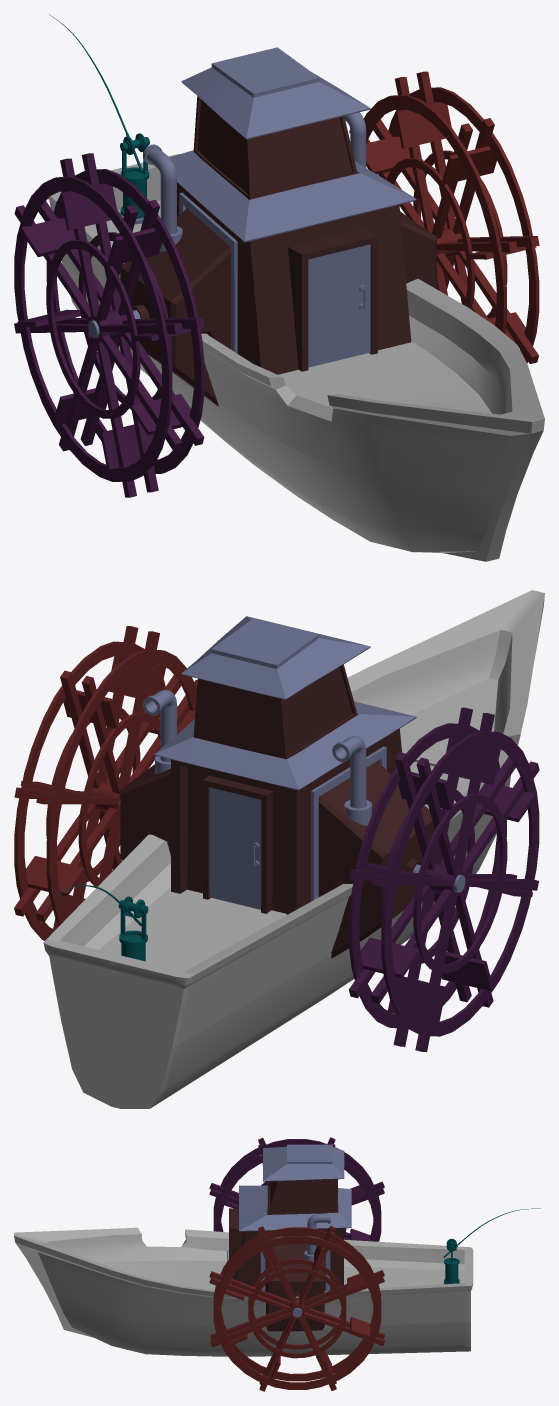
The model's file is emmaBoat.fbx.
3 views of the same model, one above another, from view 1: azimuth 30°, elevation 25°; view 2: azimuth 150°, elevation 25°; view 3: azimuth 270°, elevation 25° (orthographic). The views are drawn at different scales.
Parts seen in each view (by area): view 1: emmaBoat, rightWheel, leftWheel, rotateBottom, rotateTop; view 2: emmaBoat, rightWheel, leftWheel, rotateBottom; view 3: emmaBoat, leftWheel, rightWheel, rotateBottom.
Boxes of the visible parts, box(x1,y1,x2,y2) form: emmaBoat: box(48, 47, 544, 561); rightWheel: box(14, 153, 204, 497); leftWheel: box(349, 71, 539, 363); rotateBottom: box(120, 137, 149, 218); rotateTop: box(49, 14, 146, 172); emmaBoat: box(43, 590, 544, 1108); rightWheel: box(348, 707, 539, 1052); leftWheel: box(14, 626, 197, 940); rotateBottom: box(118, 900, 148, 961); emmaBoat: box(14, 1144, 473, 1356); leftWheel: box(209, 1225, 384, 1391); rightWheel: box(209, 1137, 384, 1241); rotateBottom: box(444, 1245, 459, 1284).
Bounding box in the file's own units: 619 × 550 × 1369.
